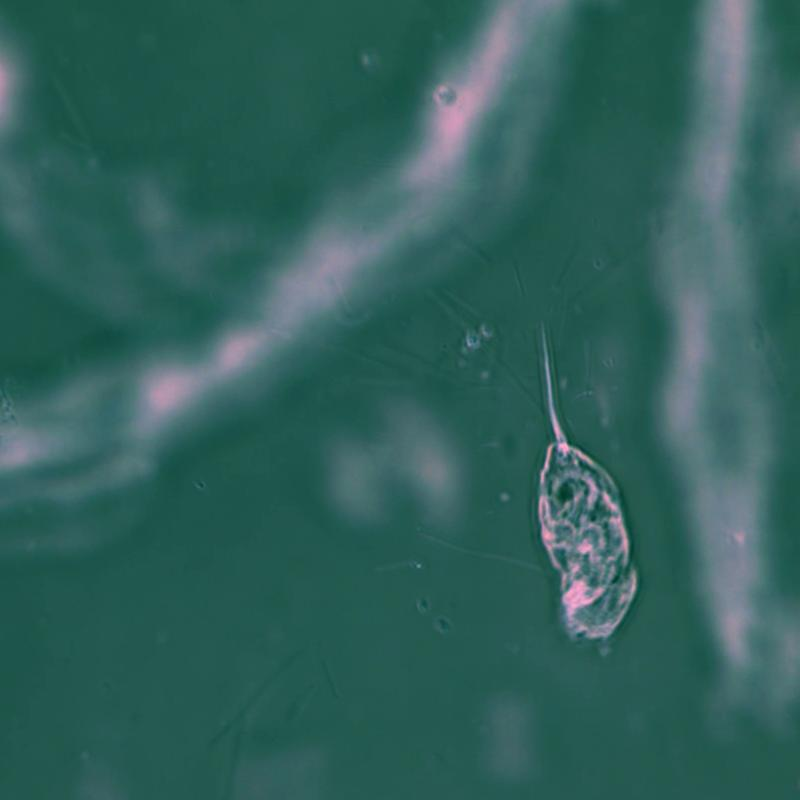depth:0: (493, 305, 665, 670)
